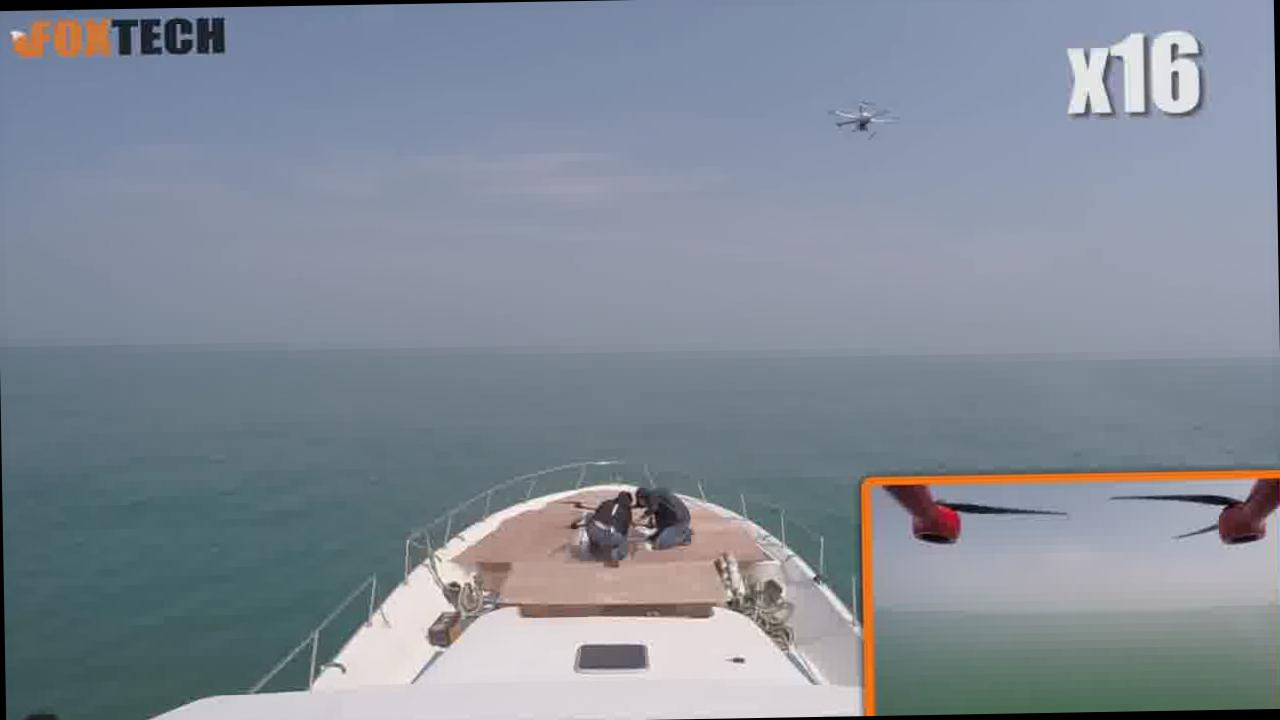drone: (824, 100, 894, 142)
